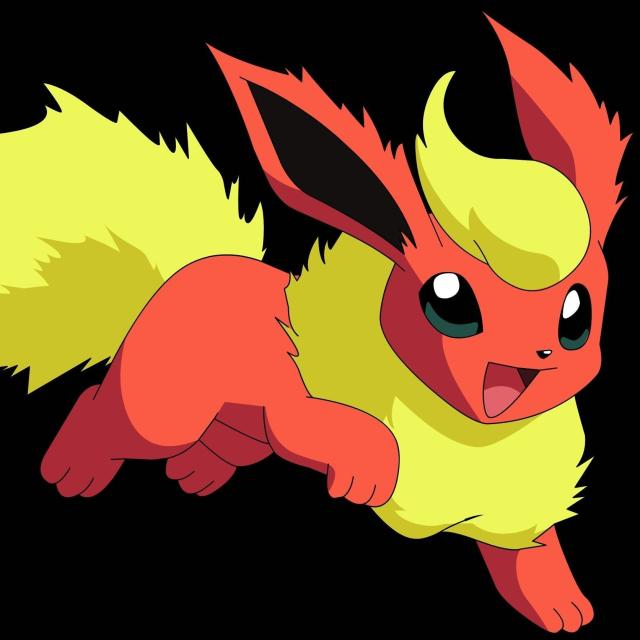Flareon: (46, 45, 638, 634)
